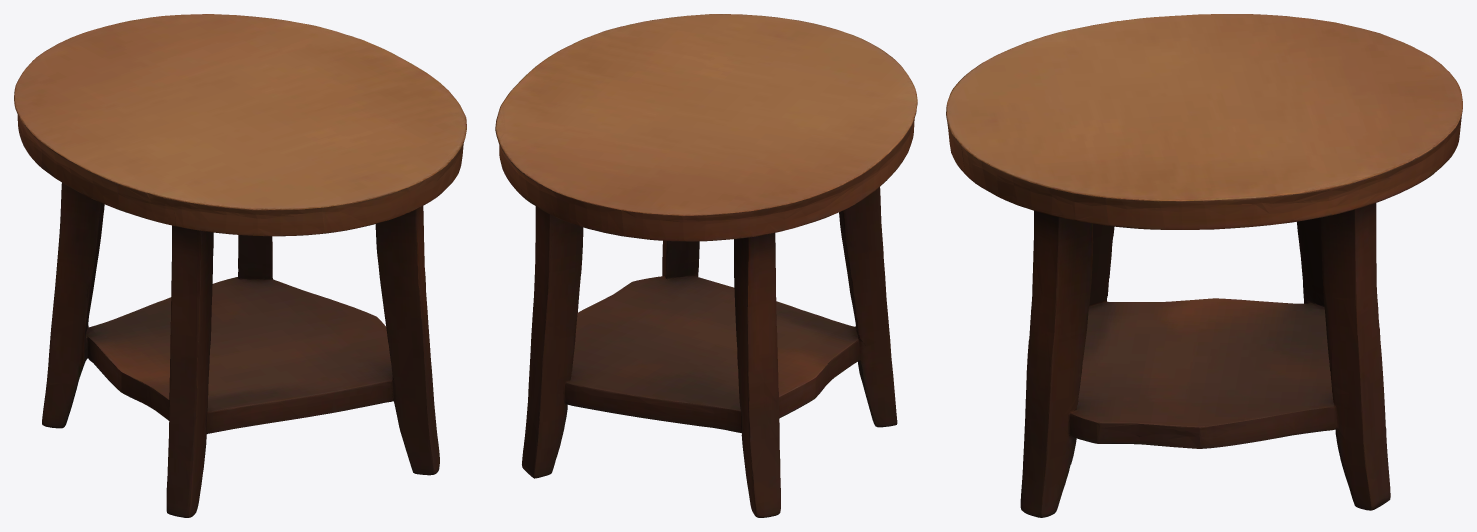
Rendered from round_endtable.glb.
3 views of the same model, side by side, from view 1: azimuth 30°, elevation 25°; view 2: azimuth 150°, elevation 25°; view 3: azimuth 270°, elevation 25° (orthographic). The views are drawn at different scales.
Visible parts, largest first — view 1: geometry_0; view 2: geometry_0; view 3: geometry_0.
Part boxes in pixels (x1,y1,x2,y2): geometry_0: [14, 14, 466, 517]; geometry_0: [495, 14, 917, 517]; geometry_0: [946, 14, 1462, 517].
Bounding box in the file's own units: 0.8563 × 0.7466 × 1.
1 material, 1 textured.
